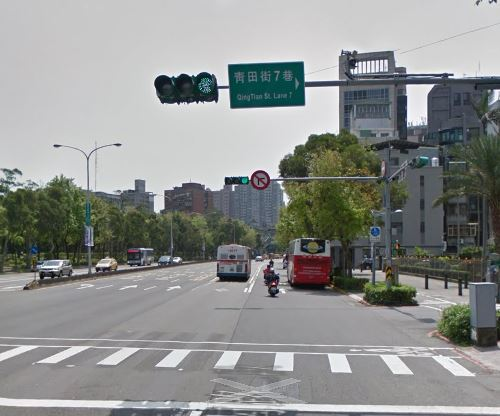Traffic_light_green: (152, 71, 219, 106), (224, 176, 250, 186)
car: (35, 256, 72, 281)
motorcycle: (267, 275, 279, 297)
